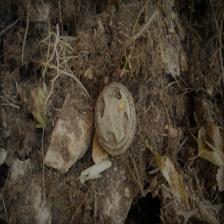M14: (94, 82, 136, 155)
